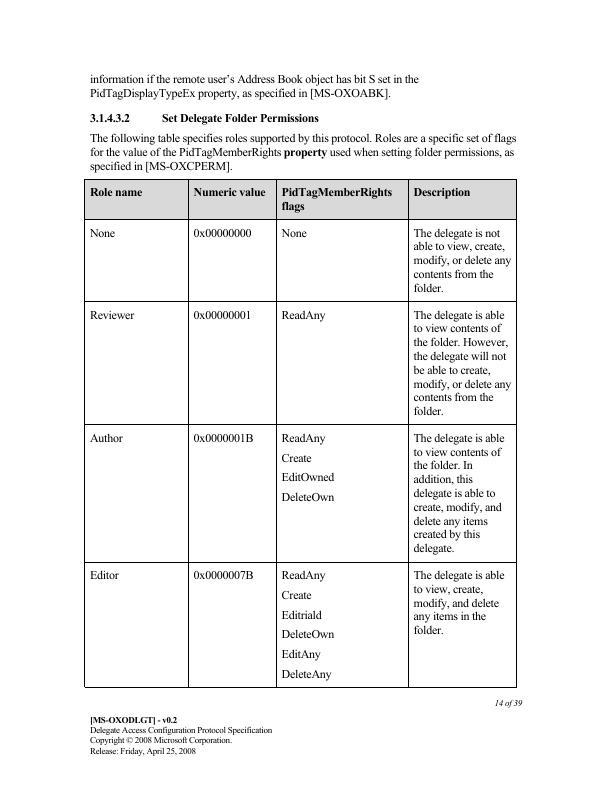table: (82, 178, 519, 689)
text: (86, 130, 519, 174), (86, 73, 421, 100), (86, 715, 273, 757), (86, 110, 322, 126), (490, 694, 524, 711)
